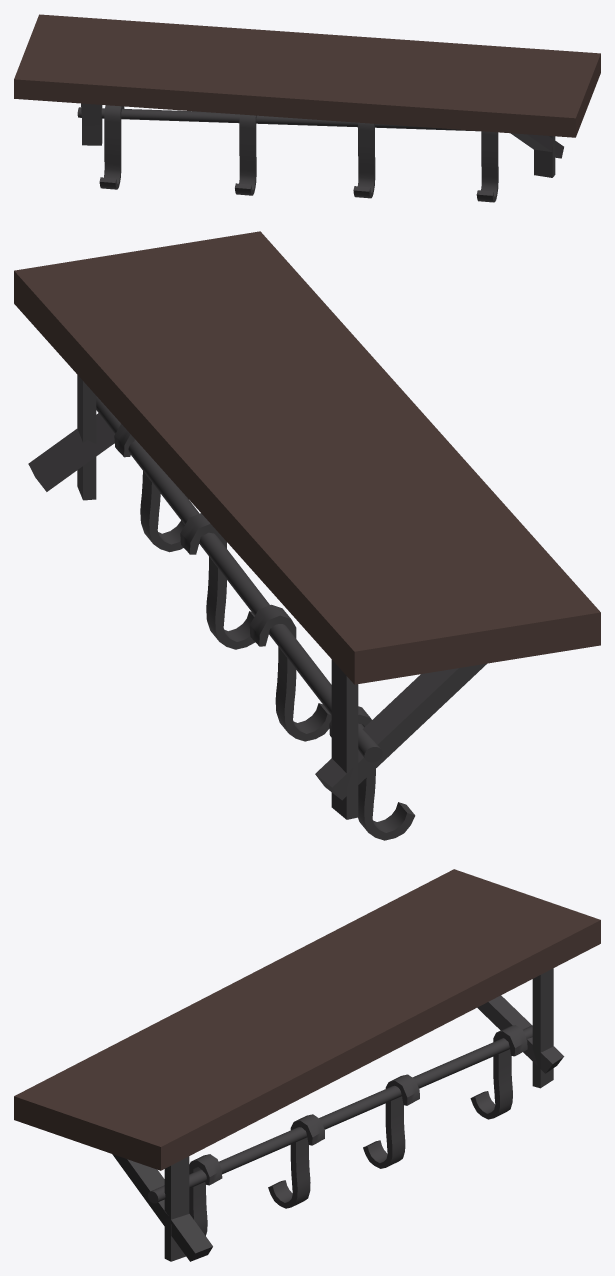
The model's file is wall_shelf.fbx.
3 renders of one model, top to bottom at view 1: azimuth 30°, elevation 25°; view 2: azimuth 150°, elevation 25°; view 3: azimuth 270°, elevation 25°, orthographic. The views are drawn at different scales.
Visible parts, largest first — view 1: pCube16, pCylinder5, pCube21, pCube22, pCube24, pCube23, pCube18, pCube20, pCube19, pCube17; view 2: pCube16, pCylinder5, pCube19, pCube17, pCube22, pCube24, pCube20, pCube21, pCube23, pCube18; view 3: pCube16, pCylinder5, pCube20, pCube24, pCube22, pCube21, pCube17, pCube18, pCube19, pCube23.
Part boxes in pixels (x1,y1,x2,y2): pCube16: (14,14,600,137); pCylinder5: (77,107,479,131); pCube21: (99,105,124,189); pCube22: (235,114,256,195); pCube24: (353,122,375,198); pCube23: (476,131,498,202); pCube18: (534,136,555,177); pCube20: (511,133,563,158); pCube19: (81,103,102,126); pCube17: (82,105,102,145); pCube16: (14,231,600,684); pCylinder5: (96,396,382,762); pCube19: (315,663,486,800); pCube17: (331,659,358,819); pCube22: (249,604,331,741); pCube24: (180,513,255,649); pCube20: (28,413,114,491); pCube21: (329,706,415,840); pCube23: (114,424,184,552); pCube18: (77,375,96,500); pCube16: (14,869,600,1170); pCylinder5: (148,1025,532,1203); pCube20: (112,1154,212,1261); pCube24: (268,1114,324,1208); pCube22: (363,1074,419,1168); pCube21: (470,1025,527,1119); pCube17: (532,968,553,1088); pCube18: (164,1156,189,1261); pCube19: (477,995,564,1073); pCube23: (189,1154,222,1235).
Size of the model in its own units: 347 by 104 by 309.
